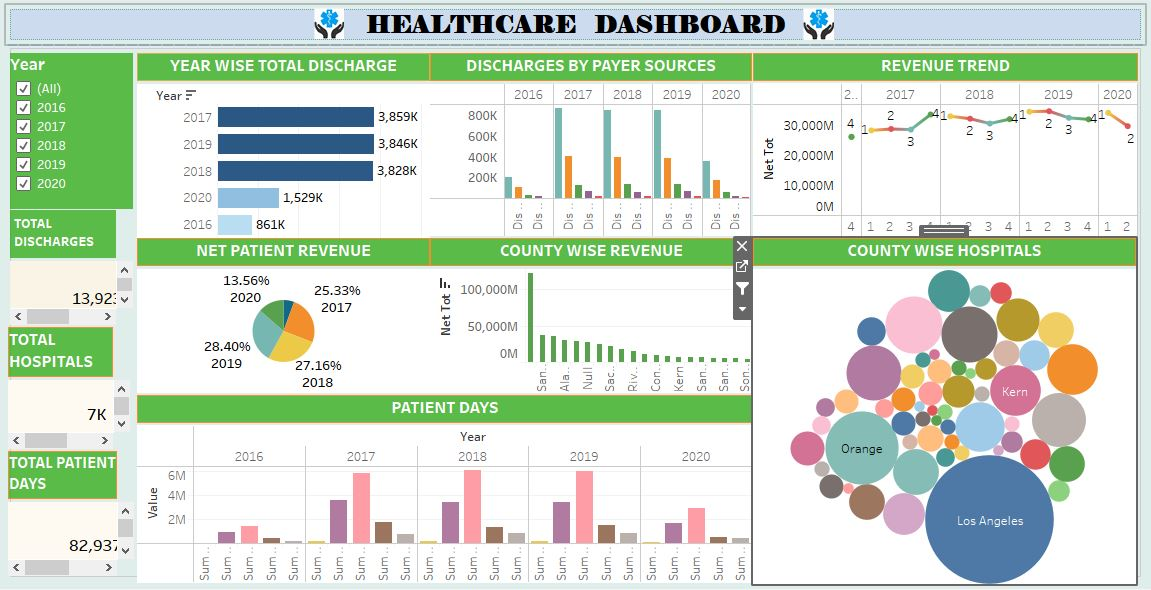

The dashboard page shown, as its layout file describes it:
{"tool":"tableau","page":{"name":"DASHBOARD","canvas":[1000,1000],"units":"permille","ordinal":0},"visuals":[{"type":"title","box":[6.9,13.5,986.1,65.9]},{"type":"image","param":"Image/OIP.jpg","box":[270.1,18.6,33.8,52.4]},{"type":"image","param":"Image/OIP.jpg","box":[697,18.6,37.2,54.1]},{"type":"image","box":[6.9,79.4,986.1,907.1]},{"type":"filter","title":"NET PATIENT REVENUE","param":"[federated.0hf6pbz0bde5vd13d0ws40o3xaft].[none:YEAR:nk]","box":[10.4,94.6,106.5,263.5]},{"type":"worksheet","title":"YEAR WISE DISCHARGE","mark":"Automatic","rows":["YEAR"],"cols":["DIS_TOT"],"box":[120.4,94.6,253.7,312.5]},{"type":"worksheet","title":"DISCHARGE BY PAYER SOURCE","mark":"Bar","cols":["YEAR"],"box":[374,94.6,278.8,312.5]},{"type":"worksheet","title":"REVENUE TREND","mark":"Line","rows":["NET_TOT"],"cols":["YEAR","QUARTER"],"box":[653.7,94.6,333.3,310.8]},{"type":"worksheet","title":"TOTAL DISCHARGES","mark":"Automatic","box":[10.4,359.8,106.5,194.3]},{"type":"worksheet","title":"NET PATIENT REVENUE","mark":"Pie","box":[120.4,407.1,253.7,261.8]},{"type":"worksheet","title":"COUNTY WISE REVENUE","mark":"Automatic","rows":["NET_TOT"],"cols":["COUNTY_NAME"],"box":[374,407.1,279.7,263.5]},{"type":"worksheet","title":"COUNTY WISE HOSPITAL","mark":"Circle","box":[653.7,407.1,331.6,584.5]},{"type":"worksheet","title":"TOTAL HOSPITALS","mark":"Automatic","box":[8.7,557.4,105.6,206.1]},{"type":"worksheet","title":"PATIENT DAYS","mark":"Automatic","cols":["YEAR"],"box":[120.1,672.1,533.5,319.6]},{"type":"worksheet","title":"TOTAL PATIENT DAYS","mark":"Automatic","box":[8.7,766.9,109.1,211.2]}]}

Visuals, with their boxes on the dashboard's canvas, which has no fixed pixel size, in thousandths of its width and height (x1, y1, x2, y2). These are canvas units, not pixel positions in the 1151x590 screenshot, which may show the page scaled, cropped or inside an application window:
title: [x1=7, y1=14, x2=993, y2=79]
image: [x1=270, y1=19, x2=304, y2=71]
image: [x1=697, y1=19, x2=734, y2=73]
image: [x1=7, y1=79, x2=993, y2=986]
"NET PATIENT REVENUE" filter: [x1=10, y1=95, x2=117, y2=358]
"YEAR WISE DISCHARGE" worksheet: [x1=120, y1=95, x2=374, y2=407]
"DISCHARGE BY PAYER SOURCE" worksheet (Bar marks): [x1=374, y1=95, x2=653, y2=407]
"REVENUE TREND" worksheet (Line marks): [x1=654, y1=95, x2=987, y2=405]
"TOTAL DISCHARGES" worksheet: [x1=10, y1=360, x2=117, y2=554]
"NET PATIENT REVENUE" worksheet (Pie marks): [x1=120, y1=407, x2=374, y2=669]
"COUNTY WISE REVENUE" worksheet: [x1=374, y1=407, x2=654, y2=671]
"COUNTY WISE HOSPITAL" worksheet (Circle marks): [x1=654, y1=407, x2=985, y2=992]
"TOTAL HOSPITALS" worksheet: [x1=9, y1=557, x2=114, y2=764]
"PATIENT DAYS" worksheet: [x1=120, y1=672, x2=654, y2=992]
"TOTAL PATIENT DAYS" worksheet: [x1=9, y1=767, x2=118, y2=978]
